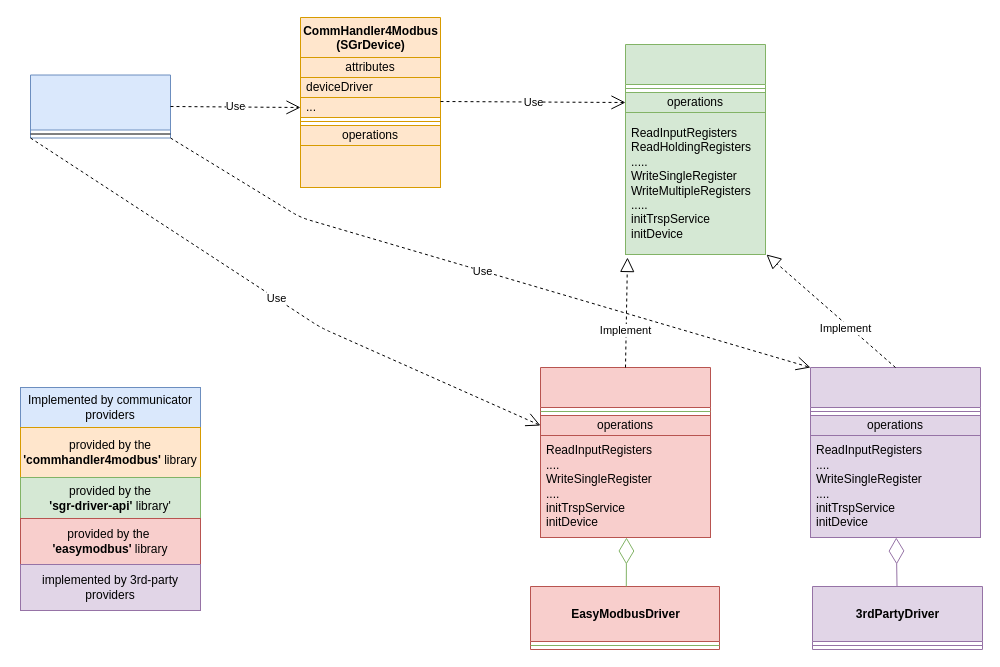
Image size: 1000x667. Some labels were removed from this diagram. Here are the shapes that lost their labels. From the top down, the box of each, then its label:
(30, 74, 170, 138): SampleCommunicator
(300, 144, 440, 188): getVal setVal
(624, 44, 766, 254): <<interface>> GenDriverAPI4Modbus
(540, 366, 710, 538): EasyModbusAdapter
(810, 366, 980, 538): 3rdPartyAdapter
